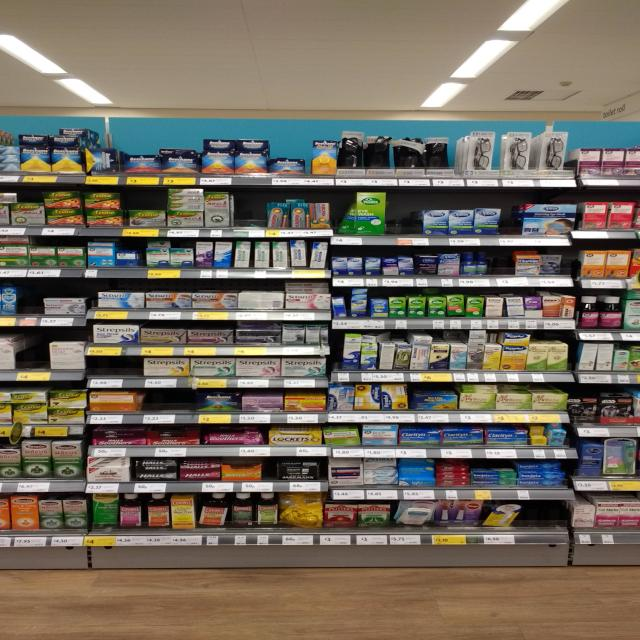empty: (389, 190, 425, 238), (15, 332, 50, 372), (233, 189, 267, 227), (521, 499, 564, 529), (84, 359, 142, 380), (14, 281, 45, 319), (145, 389, 194, 412), (490, 243, 512, 282), (502, 210, 525, 236)
